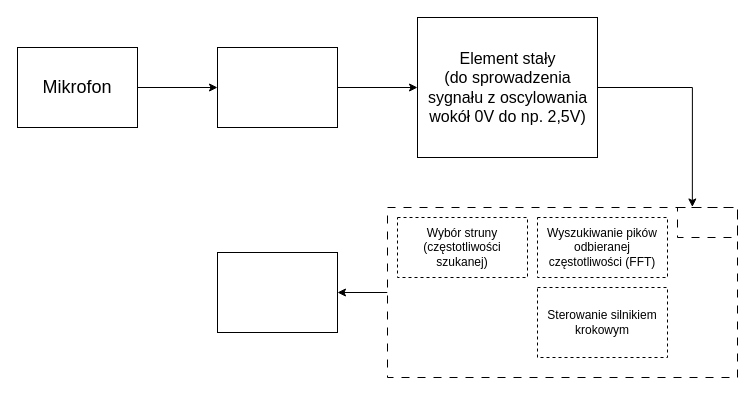
This 755x395 diagram has some shape labels left out. Each missing label, with the centre of its shape:
Silnik krokowy do przekręcania kluczy: point 277,292
uC: point 707,222
Wzmacniacz: point 277,87
